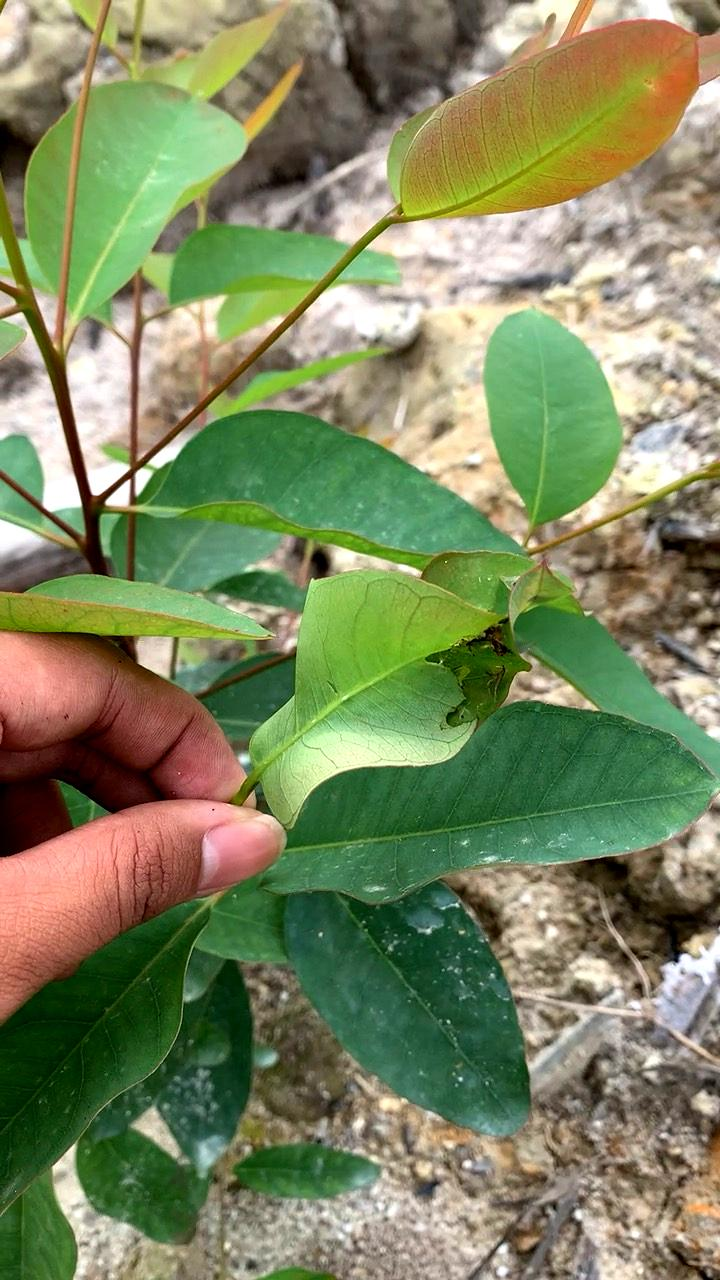Leaf Roller - Leaf: (207, 541, 576, 870)
